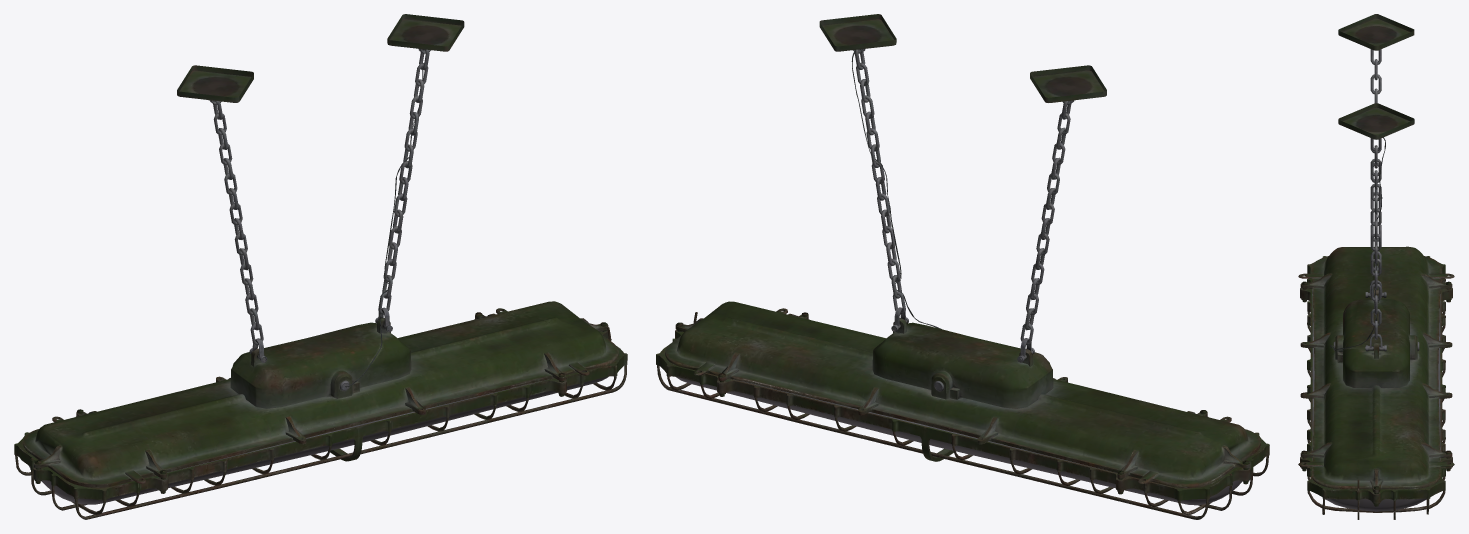
Rendered from caged_hanging_light_1k.medium.glb.
3 renders of one model, left to right at view 1: azimuth 30°, elevation 25°; view 2: azimuth 150°, elevation 25°; view 3: azimuth 270°, elevation 25°, orthographic. The views are drawn at different scales.
Parts seen in each view (by area): view 1: caged_hanging_light; view 2: caged_hanging_light; view 3: caged_hanging_light.
Part boxes in pixels (left/top/right/bottom): caged_hanging_light: left=14, top=14, right=627, bottom=519; caged_hanging_light: left=656, top=14, right=1269, bottom=519; caged_hanging_light: left=1298, top=14, right=1454, bottom=519.
Size of the model in its own units: 1.16 by 0.7501 by 0.3149.
Materials: 1 (1 with a texture image).
